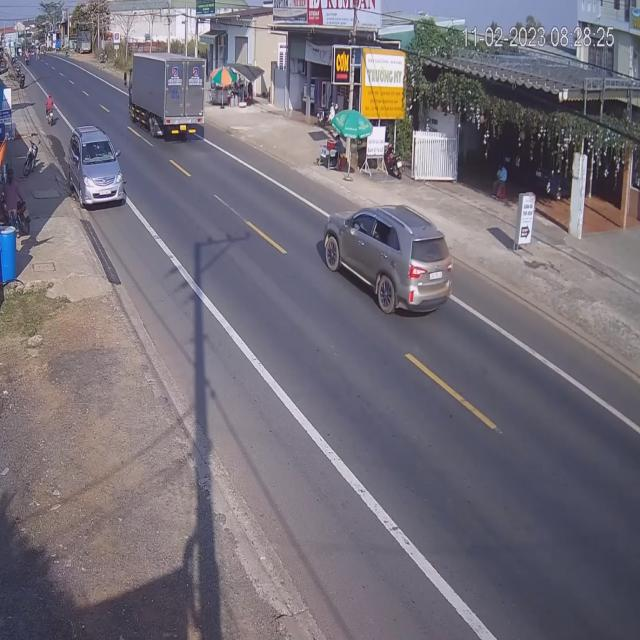car: (319, 202, 454, 314), (68, 126, 125, 208)
motorbike: (45, 93, 56, 125)
truck: (128, 51, 206, 140)
